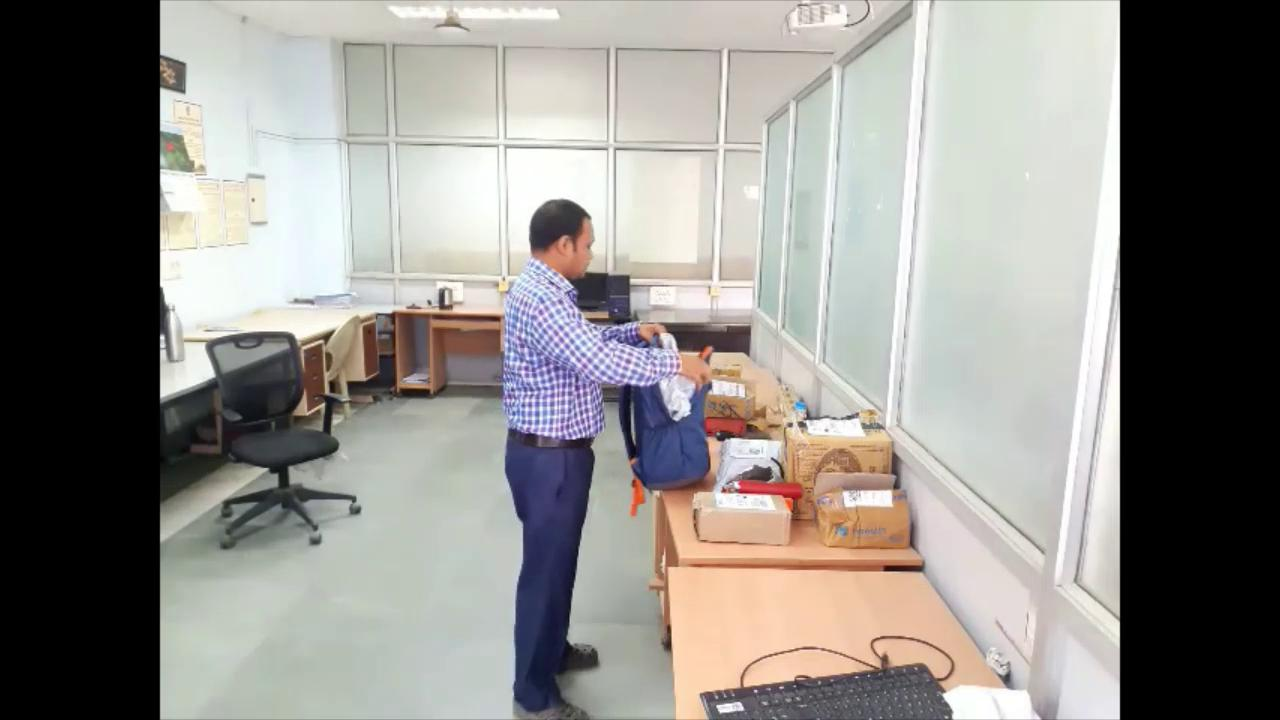shoplifting: (490, 197, 715, 720)
